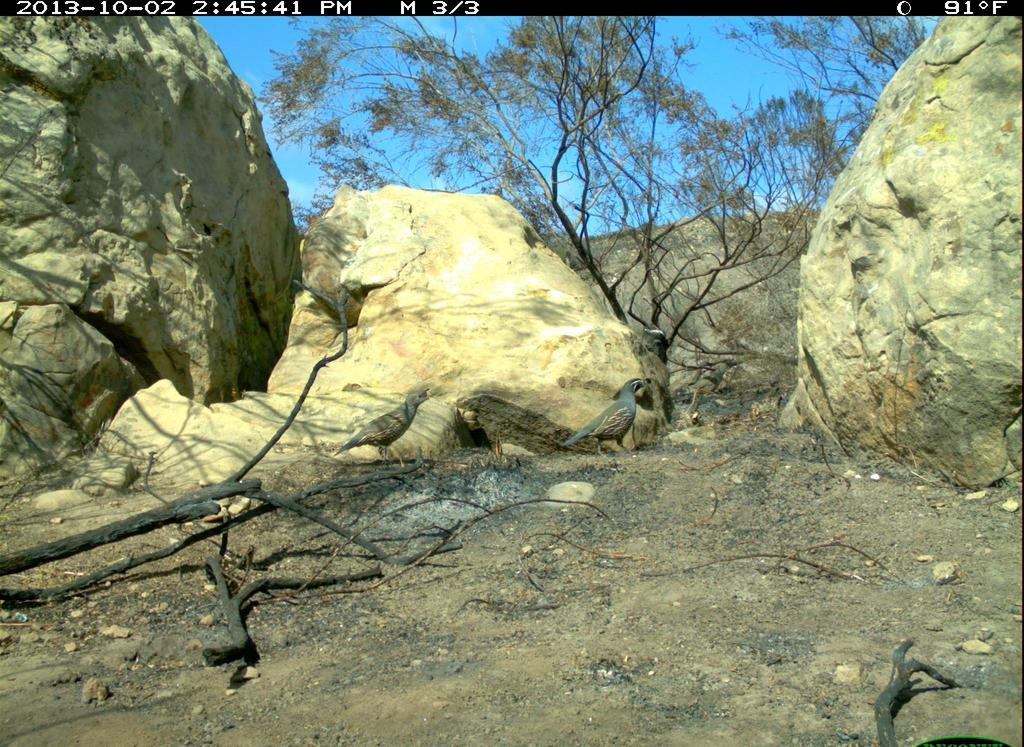bird: (332, 381, 436, 477), (562, 370, 661, 463)
